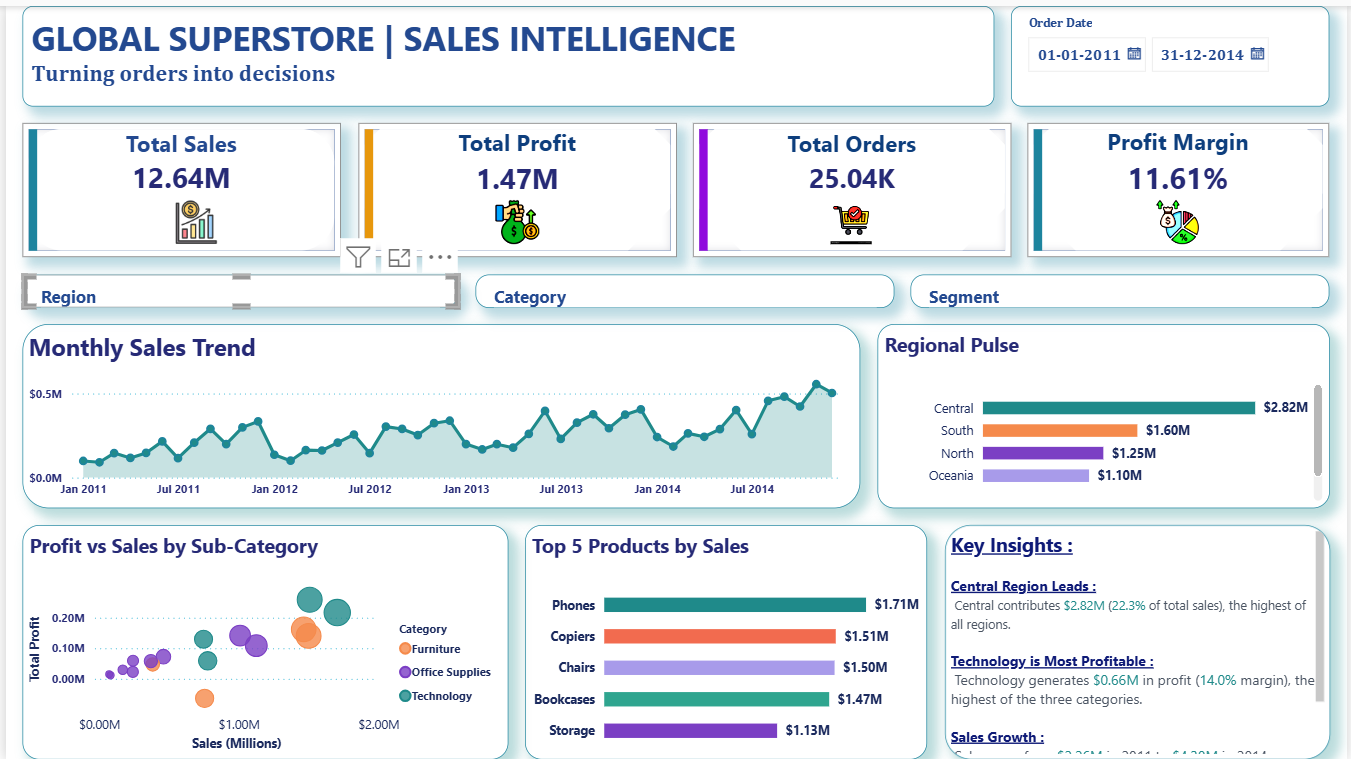

What the dashboard file says about the page in this screenshot:
{"tool":"powerbi","page":{"name":"Page 1","canvas":[1280,720],"ordinal":0},"visuals":[{"type":"cardVisual","fields":{"Data":["Orders.Total Sales"]},"box":[16,112,304,128],"z":0},{"type":"areaChart","title":"Monthly Sales Trend","fields":{"Y":["Orders.Total Sales"],"Category":["Orders.Month Start"]},"box":[16,304,800,176],"z":1000},{"type":"clusteredBarChart","title":"Regional Pulse","fields":{"Category":["Orders.Region"],"Y":["Orders.Total Sales"]},"box":[832,304,432,176],"z":2000},{"type":"clusteredBarChart","title":"Top 5 Products by Sales","fields":{"Y":["Orders.Total Sales"],"Category":["Orders.Sub-Category"]},"box":[496,496,384,224],"z":3000},{"type":"scatterChart","title":"Profit vs Sales by Sub-Category","fields":{"Category":["Orders.Sub-Category"],"Series":["Orders.Category"],"X":["Orders.Total Sales"],"Y":["Orders.Total Profit"],"Size":["Orders.Total Sales"]},"box":[16,496,464,224],"z":4000},{"type":"textbox","box":[16,0,928,96],"z":5000},{"type":"slicer","fields":{"Values":["Orders.Region"]},"box":[16,256,416,32],"z":6000},{"type":"slicer","fields":{"Values":["Orders.Order Date"]},"box":[960,0,304,96],"z":7000},{"type":"textbox","box":[896,496,368,224],"z":8000},{"type":"cardVisual","fields":{"Data":["Orders.Total Profit"]},"box":[336,112,304,128],"z":9000},{"type":"cardVisual","fields":{"Data":["Orders.Total Orders"]},"box":[656,112,304,128],"z":10000},{"type":"cardVisual","fields":{"Data":["Orders.Profit Margin"]},"box":[976,112,288,128],"z":11000},{"type":"slicer","fields":{"Values":["Orders.Category"]},"box":[448,256,400,32],"z":12000},{"type":"slicer","fields":{"Values":["Orders.Segment"]},"box":[864,256,400,32],"z":13000}]}

Visuals, with their boxes in screenshot pixels (x1, y1, x2, y2):
cardVisual - Orders.Total Sales: box=[27, 141, 344, 274]
"Monthly Sales Trend" areaChart: box=[27, 341, 860, 524]
"Regional Pulse" clusteredBarChart: box=[877, 341, 1326, 524]
"Top 5 Products by Sales" clusteredBarChart: box=[527, 541, 927, 758]
"Profit vs Sales by Sub-Category" scatterChart: box=[27, 541, 510, 758]
textbox: box=[27, 25, 993, 125]
slicer - Orders.Region: box=[27, 291, 460, 324]
slicer - Orders.Order Date: box=[1010, 25, 1326, 125]
textbox: box=[943, 541, 1326, 758]
cardVisual - Orders.Total Profit: box=[360, 141, 677, 274]
cardVisual - Orders.Total Orders: box=[693, 141, 1010, 274]
cardVisual - Orders.Profit Margin: box=[1026, 141, 1326, 274]
slicer - Orders.Category: box=[477, 291, 893, 324]
slicer - Orders.Segment: box=[910, 291, 1326, 324]
